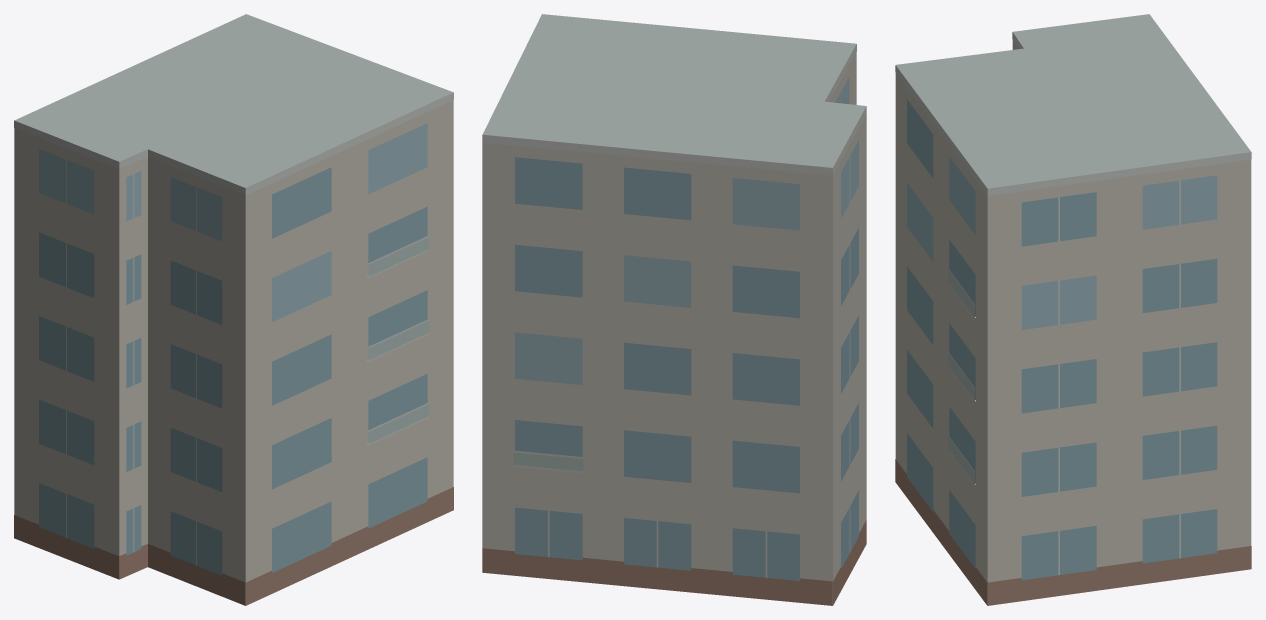
The model's file is survey-upis-32763637.glb.
3 views of the same model, side by side, from view 1: azimuth 30°, elevation 25°; view 2: azimuth 150°, elevation 25°; view 3: azimuth 270°, elevation 25° (orthographic). The views are drawn at different scales.
Visible parts, largest first — view 1: survey-upis-32763637.tmp; view 2: survey-upis-32763637.tmp; view 3: survey-upis-32763637.tmp.
Boxes of the visible parts, x1=… form: survey-upis-32763637.tmp: x1=14, y1=14, x2=453, y2=605; survey-upis-32763637.tmp: x1=482, y1=14, x2=866, y2=605; survey-upis-32763637.tmp: x1=895, y1=14, x2=1251, y2=605.
Size of the model in its own units: 12.36 by 13.75 by 10.65.
